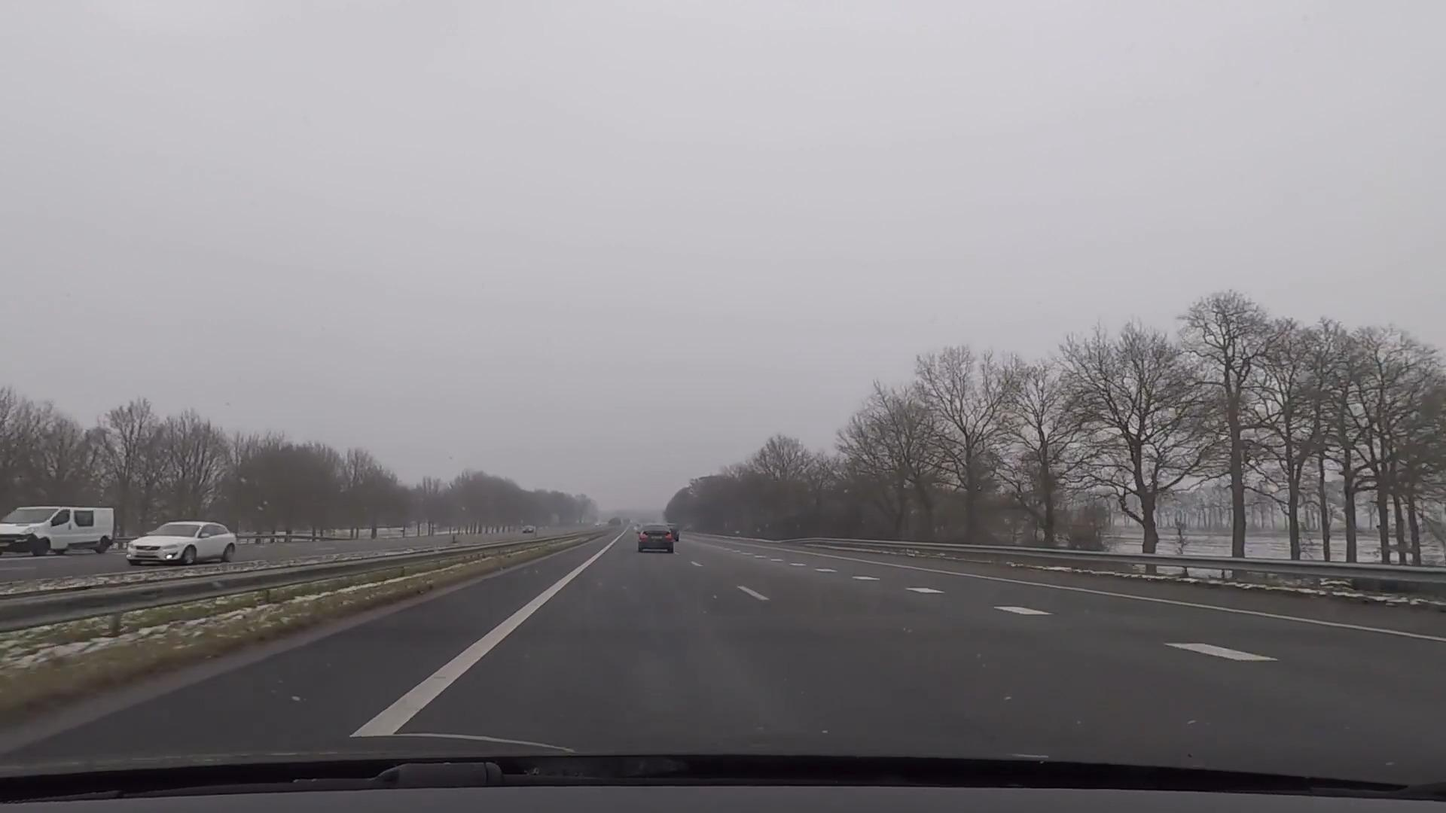Ice: (3, 524, 1445, 776)
Snow: (0, 556, 530, 683), (1077, 524, 1445, 606)
